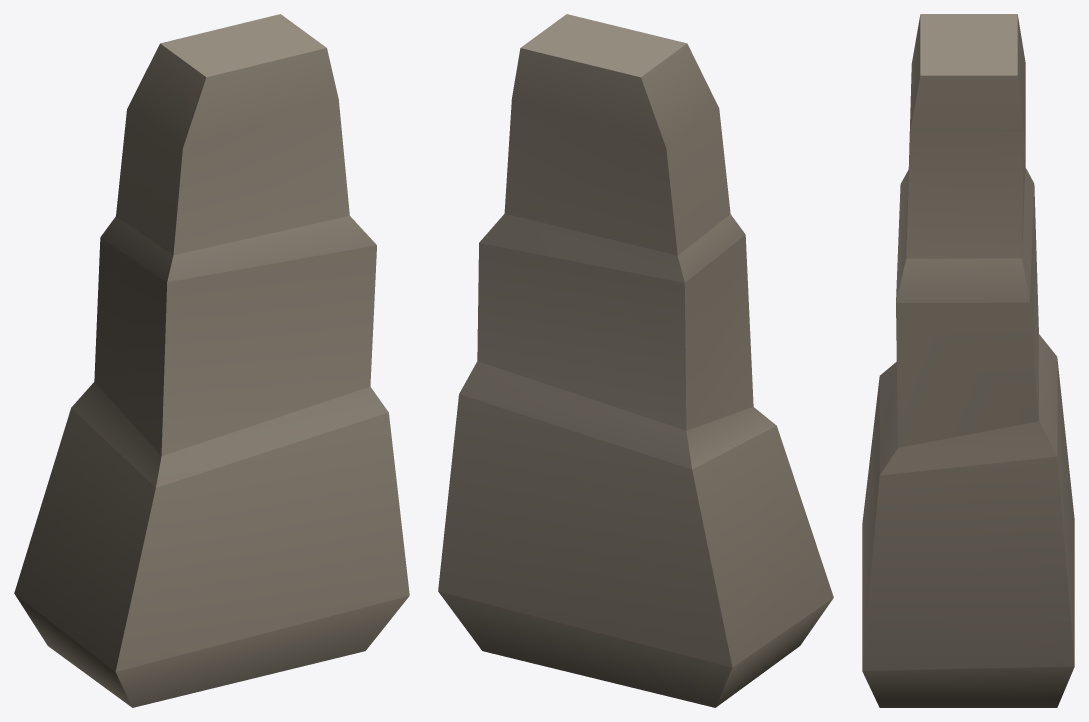
Rendered from ManmadeMore_SF_Env_StandingStone_04.fbx.
3 renders of one model, left to right at view 1: azimuth 30°, elevation 25°; view 2: azimuth 150°, elevation 25°; view 3: azimuth 270°, elevation 25°, orthographic. The views are drawn at different scales.
Visible parts, largest first — view 1: SF_Env_StandingStone_04; view 2: SF_Env_StandingStone_04; view 3: SF_Env_StandingStone_04.
Part boxes in pixels (left/top/right/bottom): SF_Env_StandingStone_04: left=14, top=14, right=409, bottom=707; SF_Env_StandingStone_04: left=438, top=14, right=833, bottom=707; SF_Env_StandingStone_04: left=862, top=14, right=1074, bottom=707.
Bounding box in the file's own units: 232 × 448 × 139.
